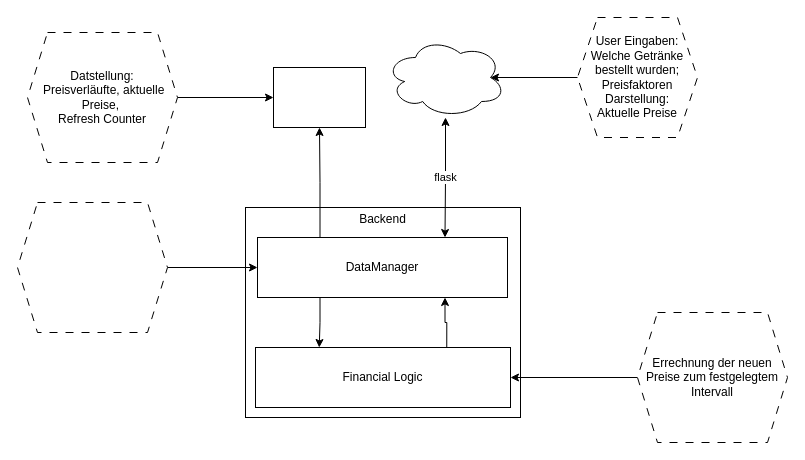
Some shapes in this 805 by 460 pixel diagram are drawn without their labels. The shapes that lost their labels are listed below. From the top down, each one's centre as x and y in pixels, then its label:
At point 319,97: "Graphs".
At point 445,77: "Webinterface".
At point 92,267: "Auswertung der Bestellungen, Preisverlauf".
